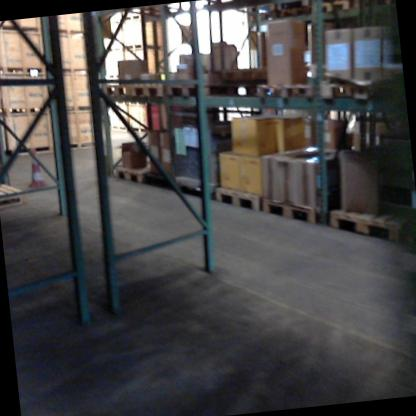pallet: (325, 191, 412, 248), (209, 56, 302, 94), (210, 170, 279, 221), (259, 188, 345, 226), (256, 75, 338, 113), (106, 2, 191, 28), (161, 74, 211, 107), (110, 156, 159, 189), (125, 73, 164, 103), (310, 0, 356, 25), (99, 73, 132, 102), (273, 4, 311, 26), (0, 182, 26, 214), (362, 0, 393, 15)
stillage: (157, 100, 250, 207), (246, 0, 277, 21), (271, 0, 311, 9)
